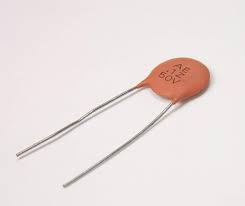ceramic capacitor: (122, 37, 222, 136)
